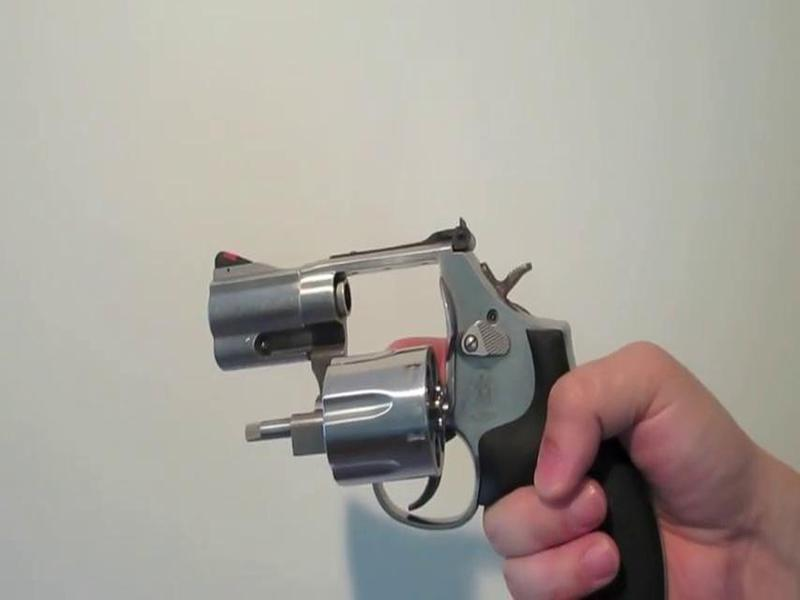Revolver: (202, 209, 677, 600)
